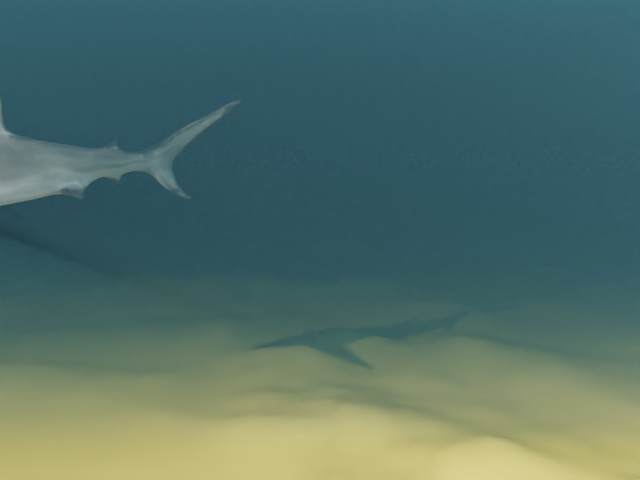Carribean Shark.001: (0, 86, 241, 230)
